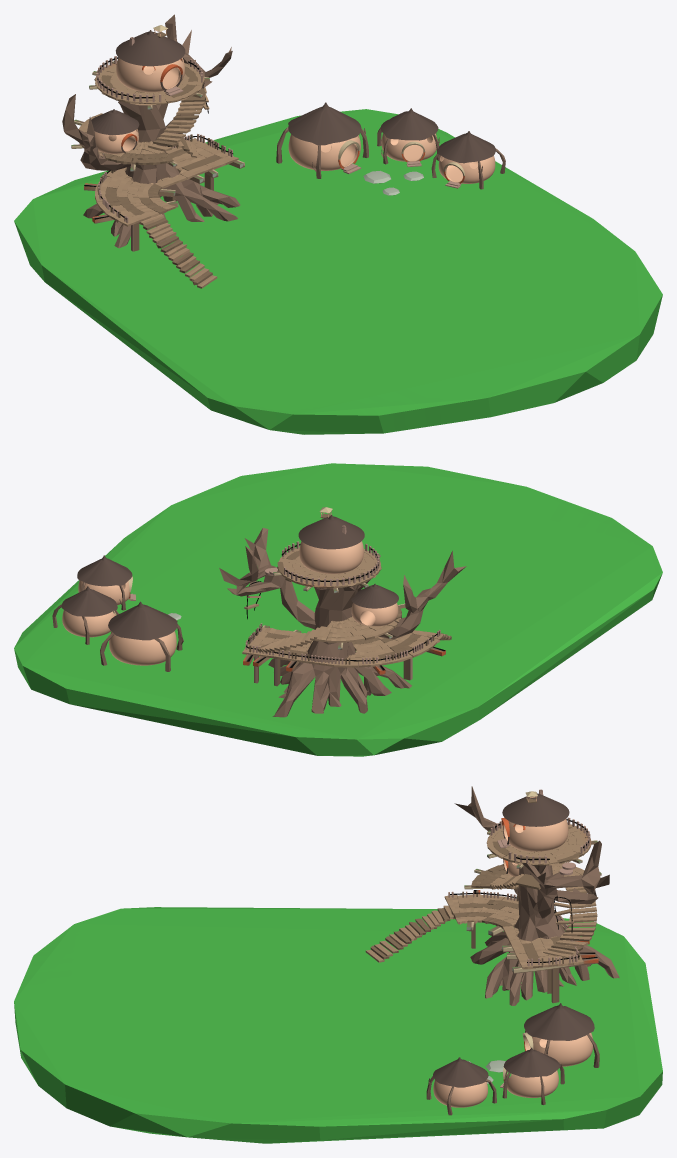
Rendered from treeEnvironment.fbx.
3 views of the same model, one above another, from view 1: azimuth 30°, elevation 25°; view 2: azimuth 150°, elevation 25°; view 3: azimuth 270°, elevation 25° (orthographic). The views are drawn at different scales.
Parts seen in each view (by area): view 1: Cube; view 2: Cube; view 3: Cube.
Boxes of the visible parts, x1,y1,x2,y2 form: Cube: [14, 14, 662, 434]; Cube: [14, 463, 662, 756]; Cube: [14, 786, 662, 1143].
Size of the model in its own units: 44347 by 20162 by 55019.
Materials: 1 (1 with a texture image).
